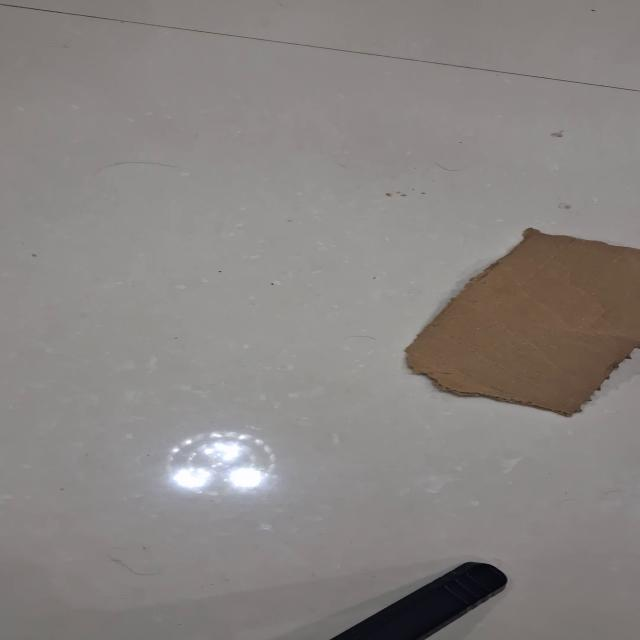paper: (2, 1, 638, 639), (402, 226, 639, 417)
